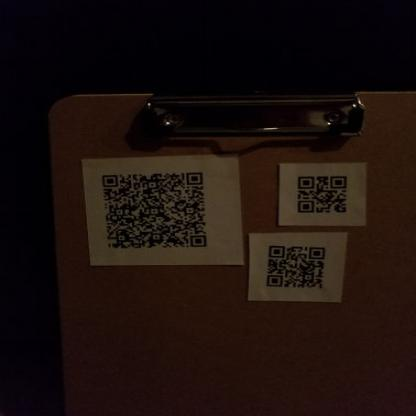qr: (99, 168, 211, 250), (264, 242, 327, 291), (292, 173, 353, 219)
